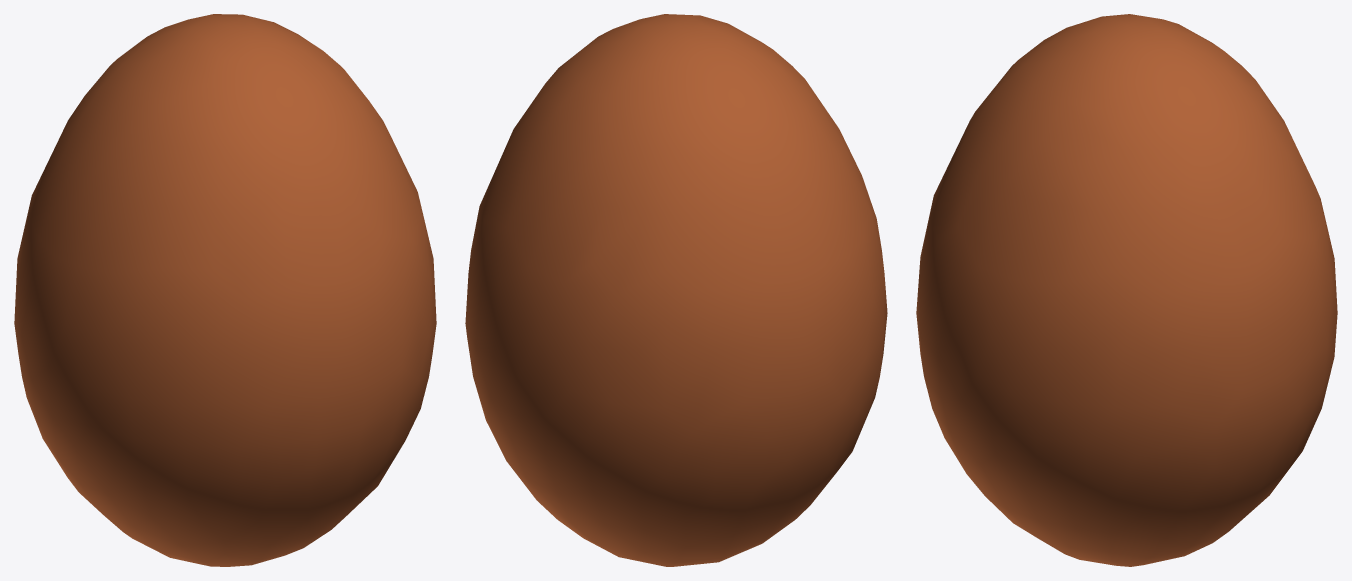
Rendered from Egg_27.obj.
3 renders of one model, left to right at view 1: azimuth 30°, elevation 25°; view 2: azimuth 150°, elevation 25°; view 3: azimuth 270°, elevation 25°, orthographic.
Parts seen in each view (by area): view 1: egg_27; view 2: egg_27; view 3: egg_27.
Boxes of the visible parts, x1,y1,x2,y2 form: egg_27: (14, 14, 436, 566); egg_27: (465, 14, 887, 566); egg_27: (916, 14, 1337, 566).
Size of the model in its own units: 0.0663 by 0.0913 by 0.0663.
